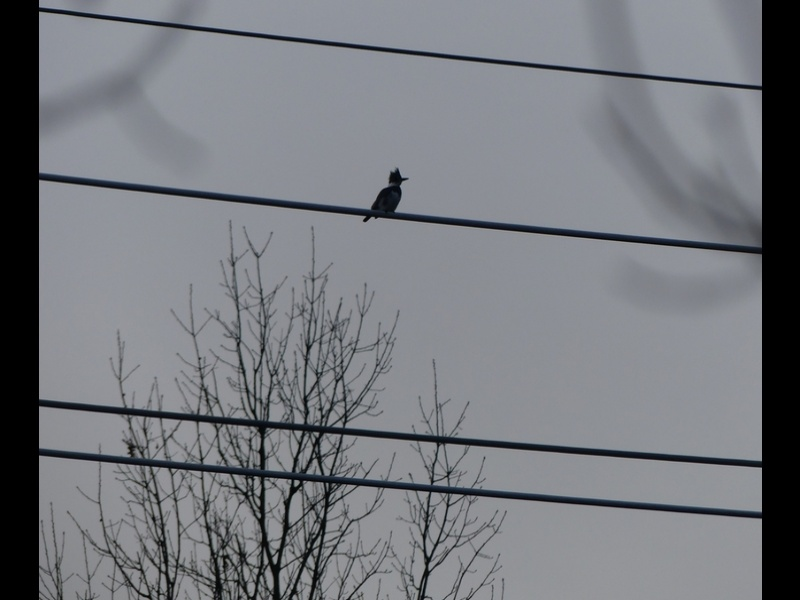kingfisher: (365, 166, 410, 222)
